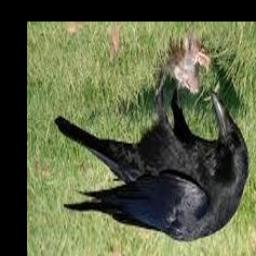Crow: (55, 68, 247, 242)
